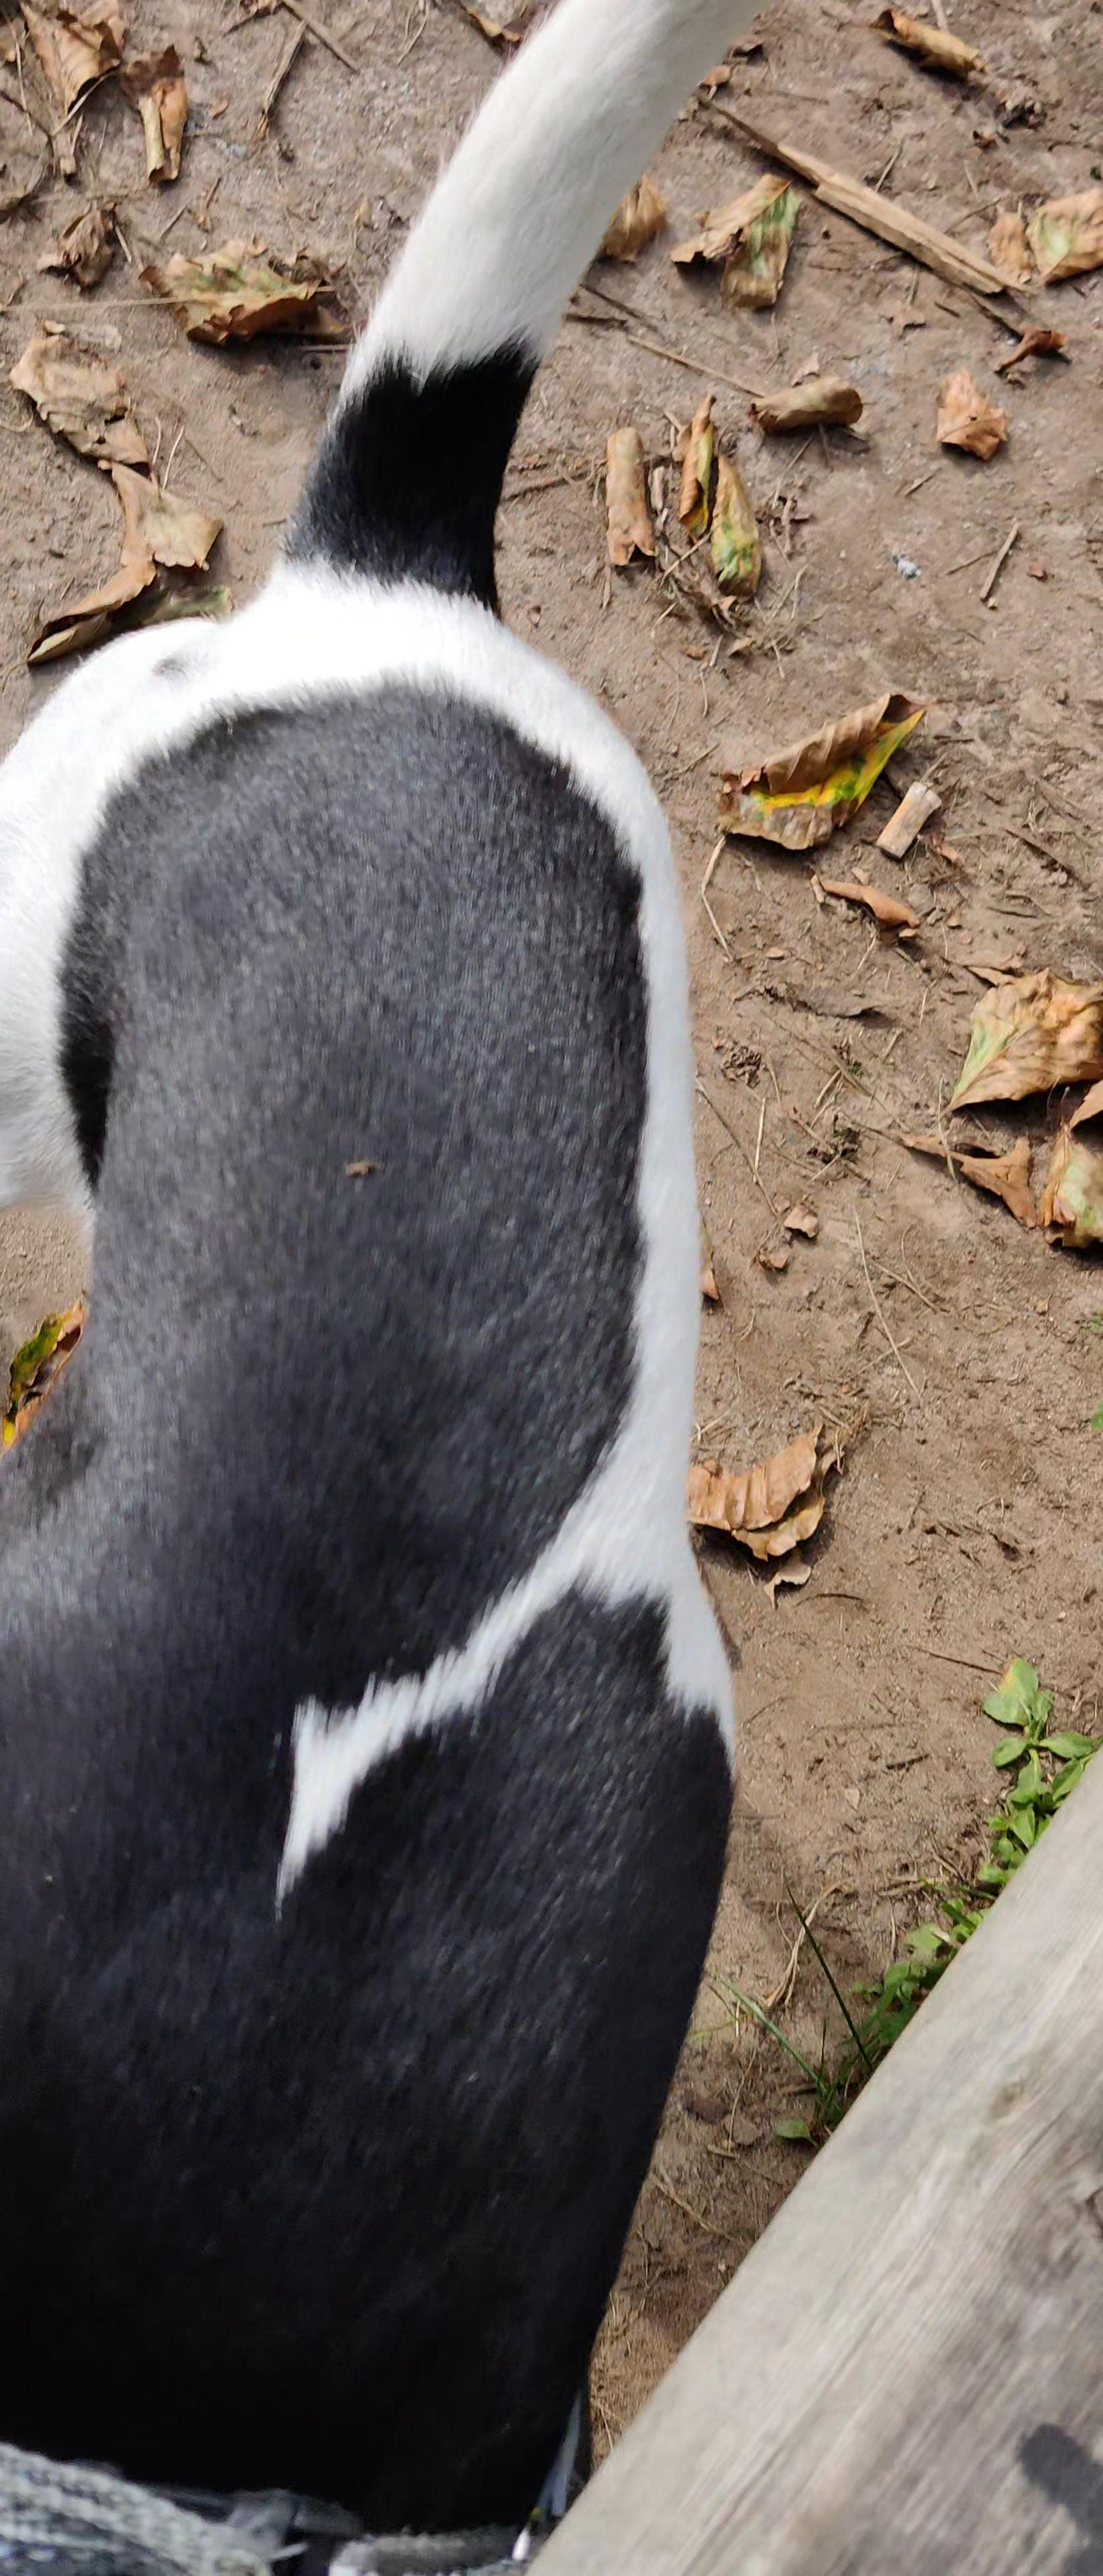Dog: (0, 0, 766, 2576)
